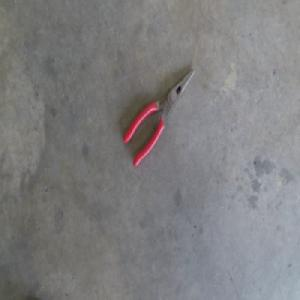Pliers: (122, 67, 195, 167)
